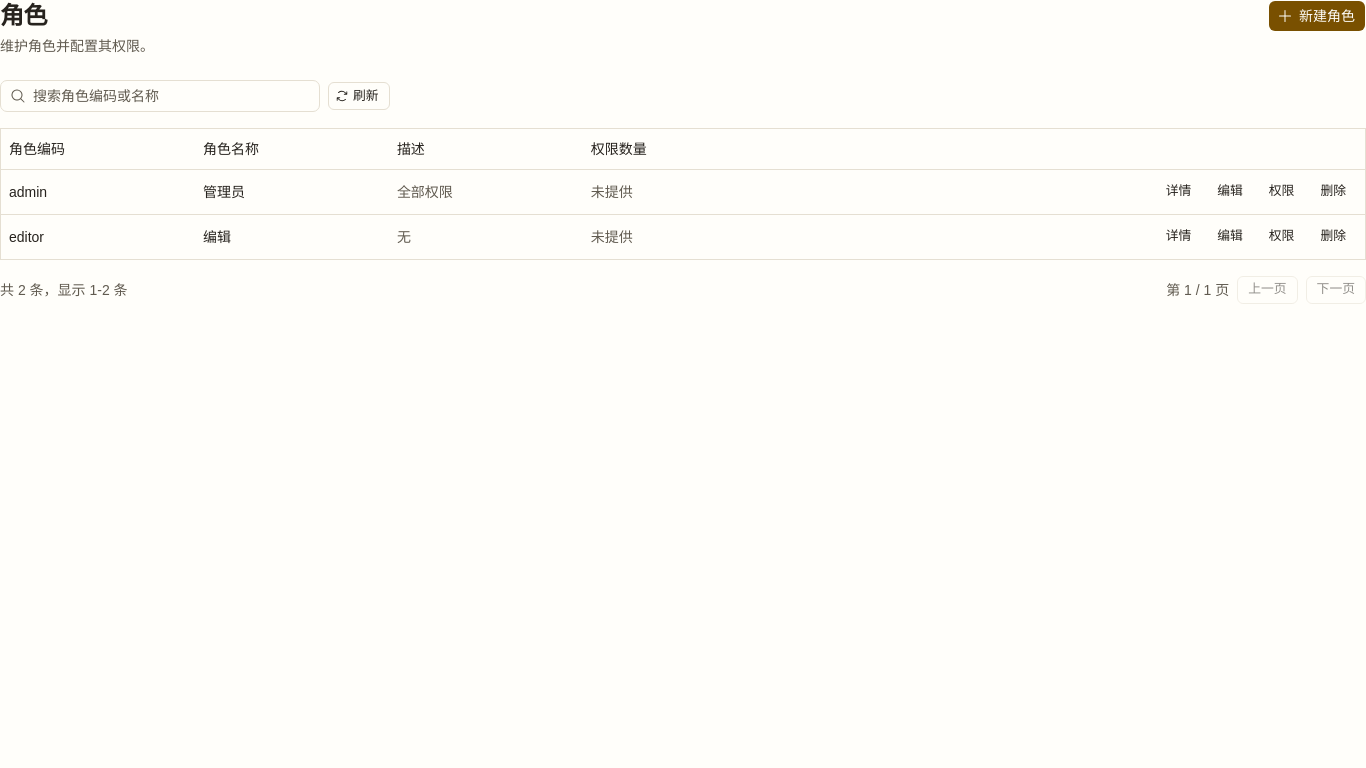
RolesPage › blocks permission assignment when the permission list is truncated
The image size is (1366, 768).
expect the text "admin" is shown: met, box [1, 169, 195, 214]
Click the button "权限" in the row of "admin" at (1282, 192), box [1258, 178, 1305, 206]
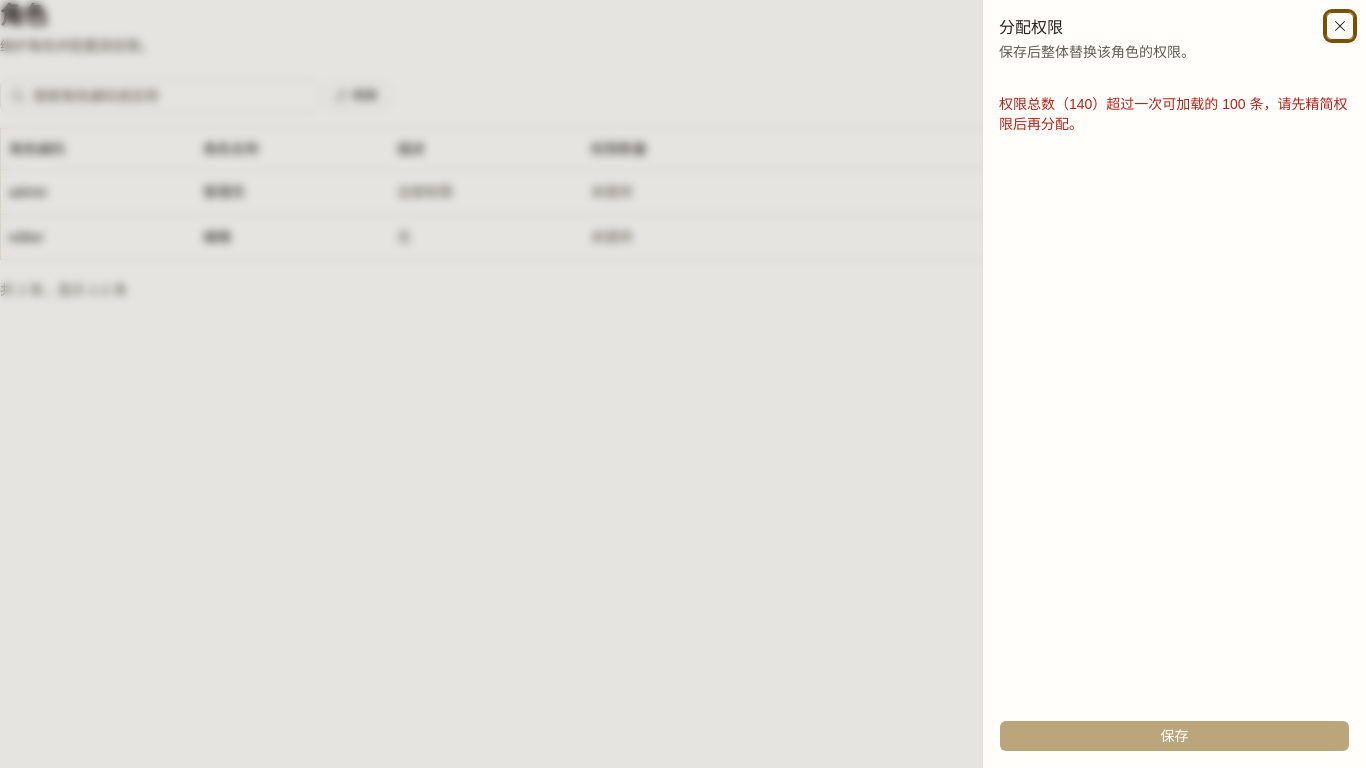
expect the message shows "超过一次可加载的 100 条": met, box [999, 94, 1350, 134]
expect the button "保存" is disabled: met, box [999, 720, 1350, 752]
